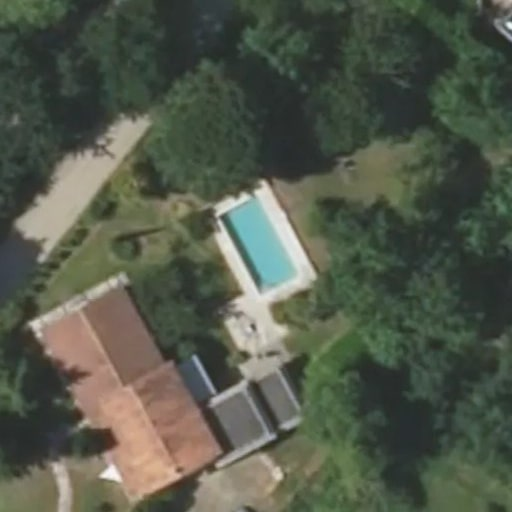pool: (218, 195, 299, 295)
